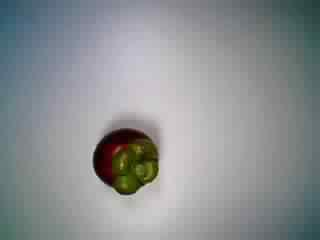mangosteen: (81, 120, 164, 195)
